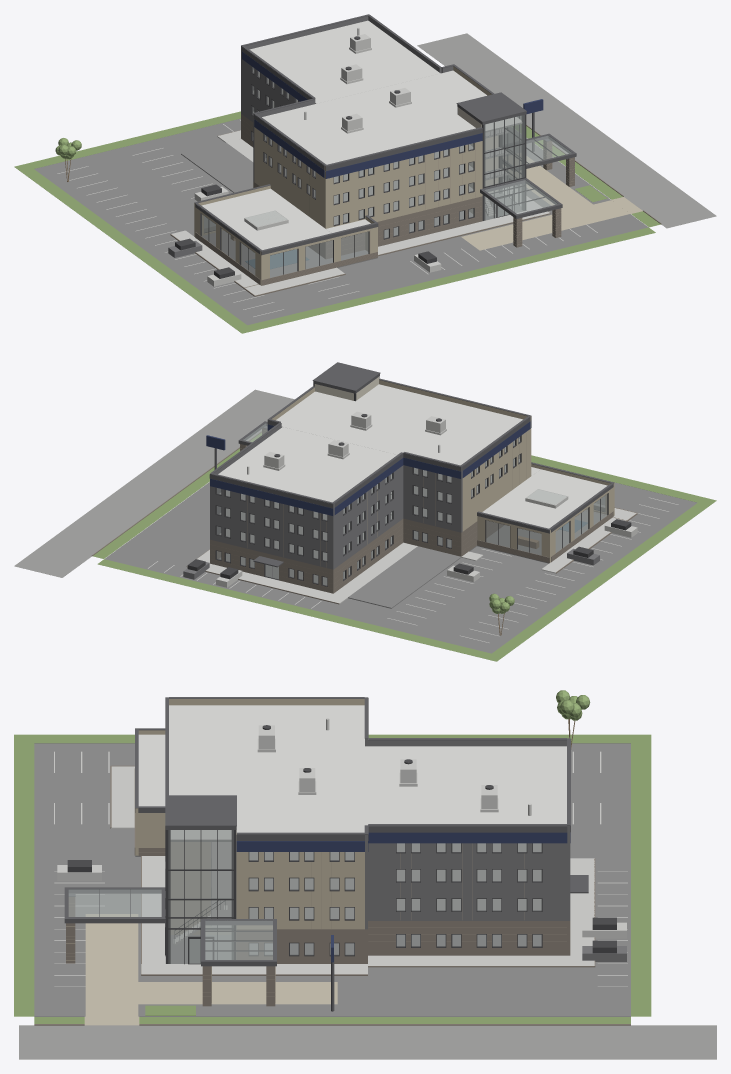
The model's file is clay-limited-service-hotel-clay-v006.glb.
3 renders of one model, top to bottom at view 1: azimuth 30°, elevation 25°; view 2: azimuth 150°, elevation 25°; view 3: azimuth 270°, elevation 25°, orthographic. The views are drawn at different scales.
Visible parts, largest first — view 1: CLAY_FOUNDATION, CLAY_MEMBRANE, CLAY_FLOOR, CLAY_WALL, CLAY_GLASS, CLAY_PLANTING, CLAY_PALE, CLAY_CAP, CLAY_STONE, CLAY_TRIM, CLAY_SAND, CLAY_CHARCOAL (+2 smaller); view 2: CLAY_FOUNDATION, CLAY_MEMBRANE, CLAY_FLOOR, CLAY_CHARCOAL, CLAY_PLANTING, CLAY_STONE, CLAY_PALE, CLAY_WALL, CLAY_CAP, CLAY_GLASS, CLAY_TRIM, CLAY_ACCENT (+2 smaller); view 3: CLAY_FOUNDATION, CLAY_MEMBRANE, CLAY_FLOOR, CLAY_PLANTING, CLAY_GLASS, CLAY_CHARCOAL, CLAY_PALE, CLAY_STONE, CLAY_CAP, CLAY_WALL, CLAY_SAND, CLAY_TRIM (+3 smaller).
Part boxes in pixels (x1,y1,x2,y2): CLAY_FOUNDATION: (34,118,648,325); CLAY_MEMBRANE: (201,20,521,249); CLAY_FLOOR: (253,33,716,228); CLAY_WALL: (194,66,491,285); CLAY_GLASS: (201,67,571,277); CLAY_PLANTING: (14,111,660,333); CLAY_PALE: (57,27,597,316); CLAY_CAP: (194,14,576,255); CLAY_STONE: (170,114,661,296); CLAY_TRIM: (175,66,557,278); CLAY_SAND: (461,153,642,250); CLAY_CHARCOAL: (168,16,453,257); CLAY_FOUNDATION: (104,463,697,653); CLAY_MEMBRANE: (218,384,607,528); CLAY_FLOOR: (14,389,519,577); CLAY_CHARCOAL: (183,422,599,579); CLAY_PLANTING: (93,432,716,661); CLAY_STONE: (91,428,637,604); CLAY_PALE: (148,411,678,642); CLAY_WALL: (271,380,614,562); CLAY_CAP: (209,362,614,567); CLAY_GLASS: (217,423,607,585); CLAY_TRIM: (187,376,631,586); CLAY_ACCENT: (206,420,531,515); CLAY_FOUNDATION: (34,743,630,1016); CLAY_MEMBRANE: (138,705,566,839); CLAY_FLOOR: (19,839,716,1059); CLAY_PLANTING: (14,690,651,1023); CLAY_GLASS: (68,830,541,963); CLAY_CHARCOAL: (365,738,626,961); CLAY_PALE: (54,718,627,986); CLAY_STONE: (34,765,630,1025); CLAY_CAP: (64,697,588,1011); CLAY_WALL: (135,699,364,929); CLAY_SAND: (84,914,337,1025); CLAY_TRIM: (67,826,616,964).
Bounding box in the file's own units: 76 × 15.55 × 69.5.
